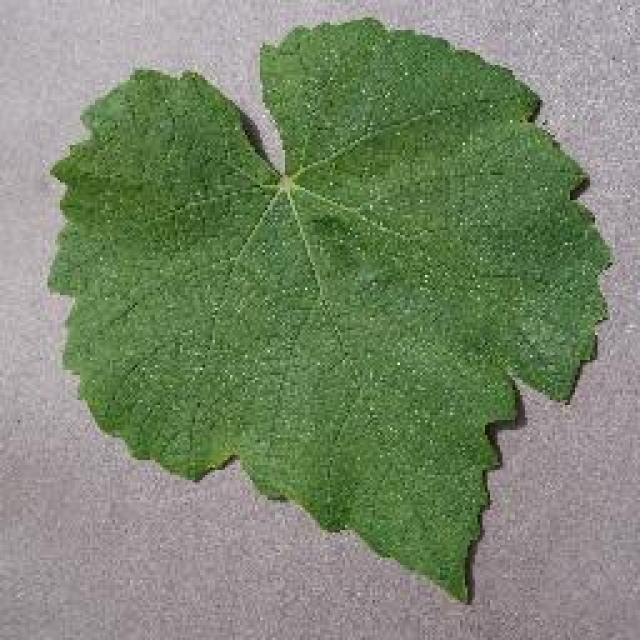Grape___healthy: (50, 20, 608, 598)
